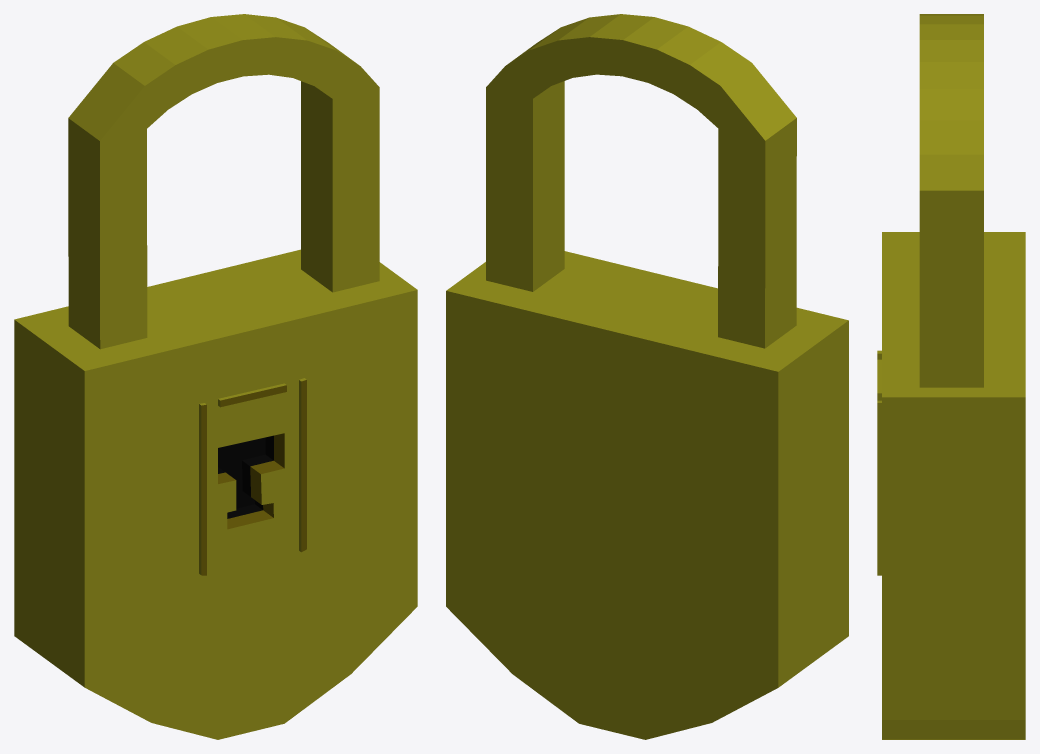
Rendered from Lock.fbx.
The picture shows the model from 3 angles, left to right: view 1: azimuth 30°, elevation 25°; view 2: azimuth 150°, elevation 25°; view 3: azimuth 270°, elevation 25°; orthographic projection. The views are drawn at different scales.
Parts seen in each view (by area): view 1: Cube; view 2: Cube; view 3: Cube.
Part boxes in pixels (x1=…): Cube: x1=14, y1=14, x2=417, y2=739; Cube: x1=446, y1=14, x2=848, y2=739; Cube: x1=877, y1=14, x2=1025, y2=739.
Bounding box in the file's own units: 200 × 388 × 75.83.
